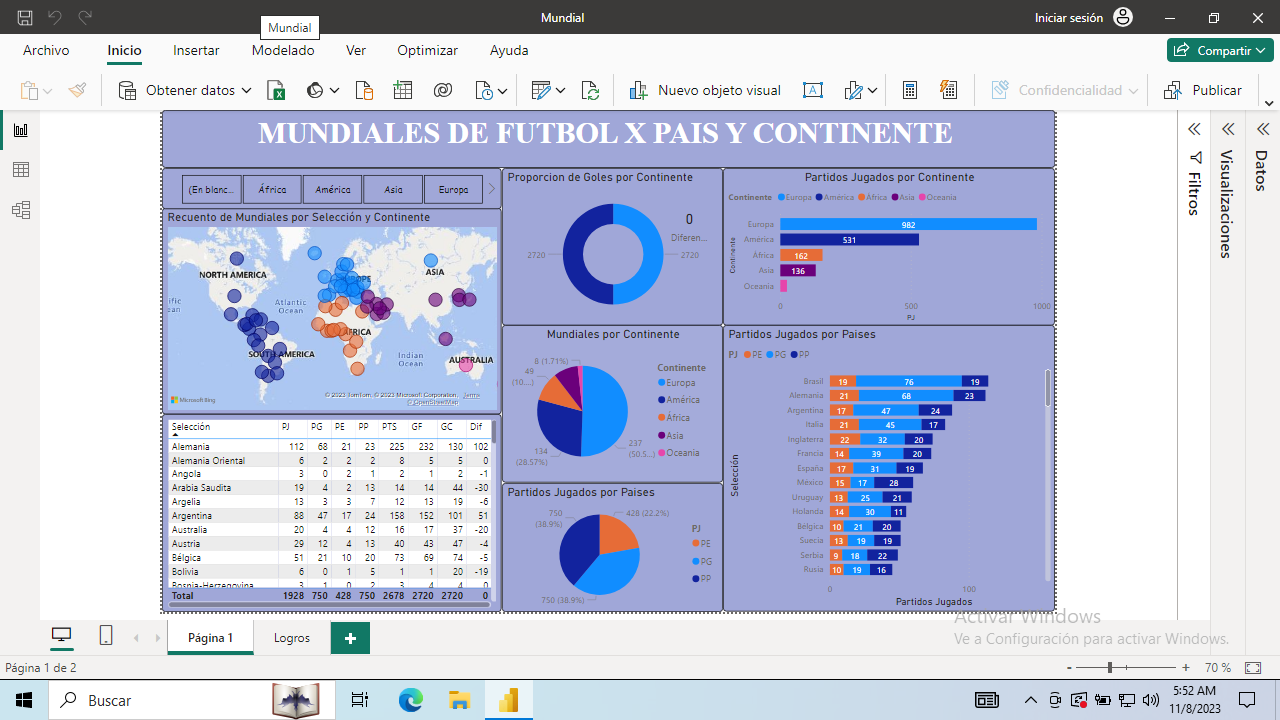

This screenshot's page, from the dashboard's own definition file:
{"tool":"powerbi","page":{"name":"Página 1","canvas":[1280,720],"ordinal":0},"visuals":[{"type":"textbox","box":[0,0,1280.7,82.8],"z":0},{"type":"map","fields":{"Category":["Tabla Historica de los Mundiales.Selección"],"Series":["PaísesMundiales.Continente"],"Size":["CountNonNull(Tabla Historica de los Mundiales.Mundiales)"]},"box":[0,140.2,487.4,296.3],"z":1000},{"type":"slicer","fields":{"Values":["PaísesMundiales.Continente"]},"box":[0,82.8,487.4,58.9],"z":2000},{"type":"tableEx","fields":{"Values":["Tabla Historica de los Mundiales.Selección","Tabla Historica de los Mundiales.PJ","Tabla Historica de los Mundiales.PG","Tabla Historica de los Mundiales.PE","Tabla Historica de los Mundiales.PP","Tabla Historica de los Mundiales.PTS","Tabla Historica de los Mundiales.GF","Tabla Historica de los Mundiales.GC","Tabla Historica de los Mundiales.Dif"]},"box":[0,436.5,487.4,283.5],"z":3000},{"type":"donutChart","title":" Proporcion de Goles por Continente","fields":{"Y":["Sum(Tabla Historica de los Mundiales.GC)","Sum(Tabla Historica de los Mundiales.GF)"]},"box":[487.4,82.8,317,226.2],"z":4000},{"type":"card","fields":{"Values":["Sum(Tabla Historica de los Mundiales.Dif)"]},"box":[723.2,133.8,66.9,62.1],"z":5000},{"type":"pieChart","fields":{"Y":["Sum(Tabla Historica de los Mundiales.Mundiales)"],"Category":["PaísesMundiales.Continente"]},"box":[487.4,309,317,226.2],"z":6000},{"type":"barChart","title":"Partidos Jugados por Continente","fields":{"Category":["PaísesMundiales.Continente"],"Y":["Sum(Tabla Historica de los Mundiales.PJ)"],"Series":["PaísesMundiales.Continente"]},"box":[804,83,476,226],"z":7000},{"type":"barChart","title":"Partidos Jugados por Paises","fields":{"Category":["Partidos jugados.Selección"],"Y":["Sum(Partidos jugados.Nro Partidos Jugados)"],"Series":["Partidos jugados.PJ"]},"box":[804.4,309,476.3,411],"z":7002},{"type":"pieChart","title":"Partidos Jugados por Paises","fields":{"Y":["Sum(Partidos jugados.Nro Partidos Jugados)"],"Series":["Partidos jugados.PJ"]},"box":[487.4,535.2,317,184.8],"z":7003}]}

Visuals, with their boxes on the page's 1280x720 design canvas (x1, y1, x2, y2). These are canvas units, not pixel positions in the 1280x720 screenshot, which may show the page scaled, cropped or inside an application window:
textbox: rect(0, 0, 1281, 83)
map - Tabla Historica de los Mundiales.Selección x PaísesMundiales.Continente: rect(0, 140, 487, 436)
slicer - PaísesMundiales.Continente: rect(0, 83, 487, 142)
tableEx - Tabla Historica de los Mundiales.Selección x Tabla Historica de los Mundiales.PJ: rect(0, 436, 487, 720)
" Proporcion de Goles por Continente" donutChart: rect(487, 83, 804, 309)
card - Sum(Tabla Historica de los Mundiales.Dif): rect(723, 134, 790, 196)
pieChart - Sum(Tabla Historica de los Mundiales.Mundiales) x PaísesMundiales.Continente: rect(487, 309, 804, 535)
"Partidos Jugados por Continente" barChart: rect(804, 83, 1280, 309)
"Partidos Jugados por Paises" barChart: rect(804, 309, 1281, 720)
"Partidos Jugados por Paises" pieChart: rect(487, 535, 804, 720)
